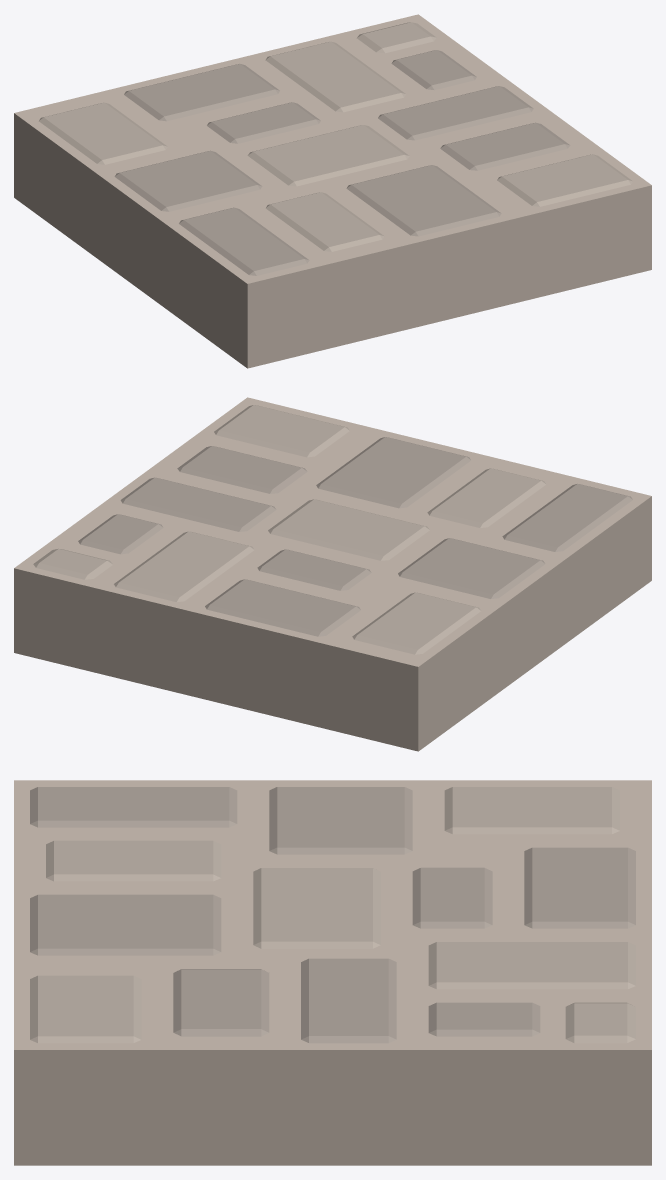
File: Stone_Floor_1.glb
3 renders of one model, top to bottom at view 1: azimuth 30°, elevation 25°; view 2: azimuth 150°, elevation 25°; view 3: azimuth 270°, elevation 25°, orthographic. The views are drawn at different scales.
Parts seen in each view (by area): view 1: Stone_Floor_1; view 2: Stone_Floor_1; view 3: Stone_Floor_1.
Part boxes in pixels (x1,y1,x2,y2): Stone_Floor_1: (14, 14, 651, 368); Stone_Floor_1: (14, 397, 651, 751); Stone_Floor_1: (14, 780, 651, 1165).
Bounding box in the file's own units: 0.528 × 0.1089 × 0.528.
